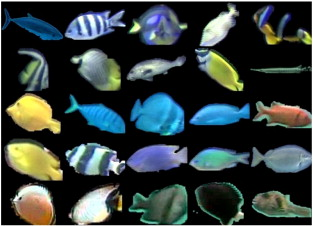fish: (61, 98, 139, 136), (191, 46, 251, 94), (7, 141, 65, 185), (2, 6, 63, 47), (69, 49, 123, 95), (4, 94, 58, 140), (250, 5, 301, 52), (6, 187, 68, 225), (124, 94, 191, 129), (195, 4, 247, 49), (245, 143, 310, 177), (124, 55, 193, 84), (64, 9, 128, 40), (70, 186, 125, 221), (126, 145, 192, 172), (249, 100, 308, 130), (10, 50, 51, 90), (195, 101, 250, 129), (190, 146, 250, 171), (68, 143, 115, 172)
